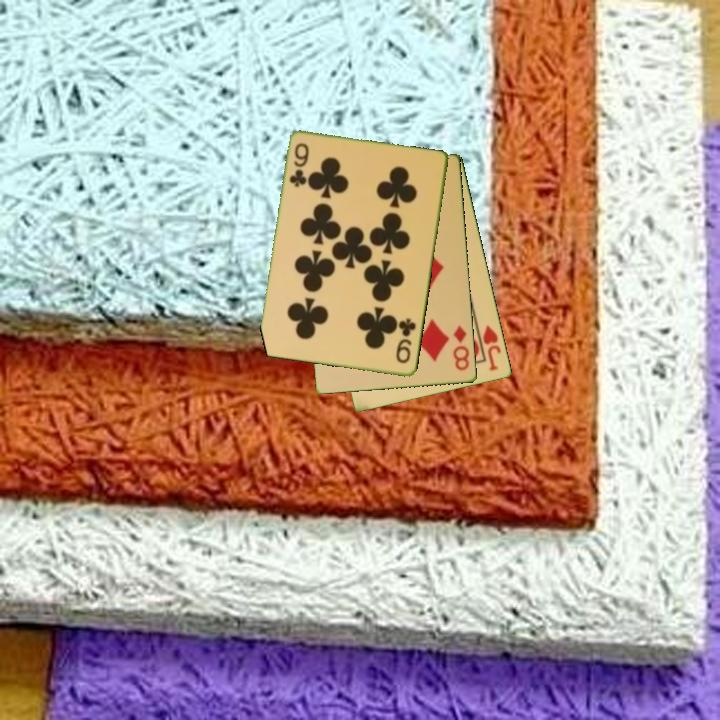8d: (450, 322, 472, 373)
9c: (393, 315, 419, 367), (286, 140, 312, 190)
Jh: (480, 322, 504, 374)
